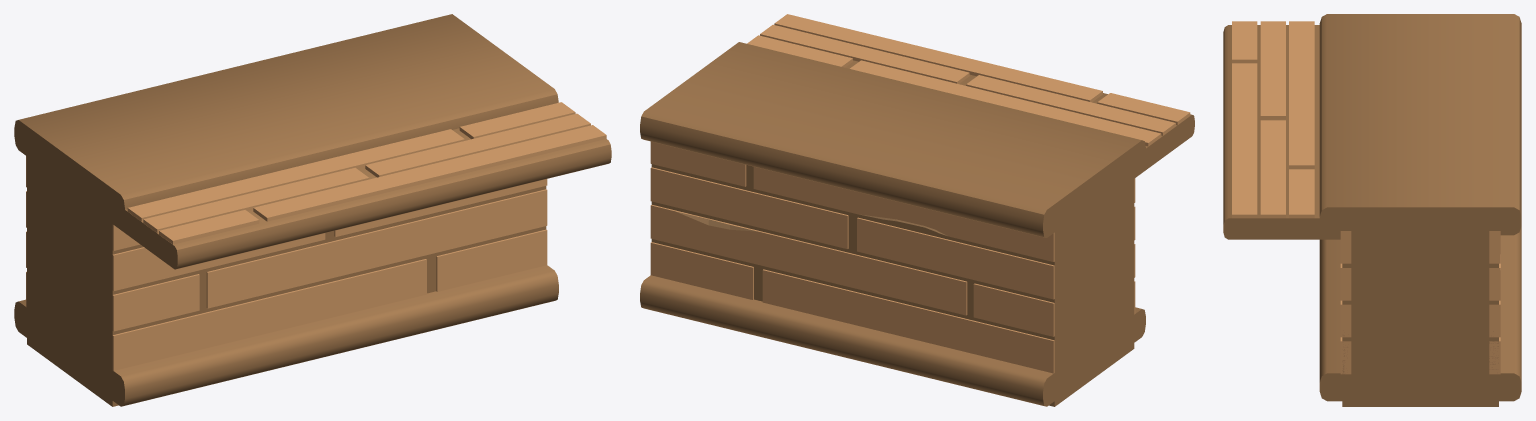
Rendered from Counter Straight 2.glb.
3 views of the same model, side by side, from view 1: azimuth 30°, elevation 25°; view 2: azimuth 150°, elevation 25°; view 3: azimuth 270°, elevation 25° (orthographic). The views are drawn at different scales.
Visible parts, largest first — view 1: Environment_Counter_Straight_2; view 2: Environment_Counter_Straight_2; view 3: Environment_Counter_Straight_2.
Boxes of the visible parts, <box> form: Environment_Counter_Straight_2: <box>14,14,611,406</box>; Environment_Counter_Straight_2: <box>640,14,1194,406</box>; Environment_Counter_Straight_2: <box>1223,14,1521,406</box>.
Size of the model in its own units: 4 by 1.92 by 2.61.
Materials: 1 (1 with a texture image).
